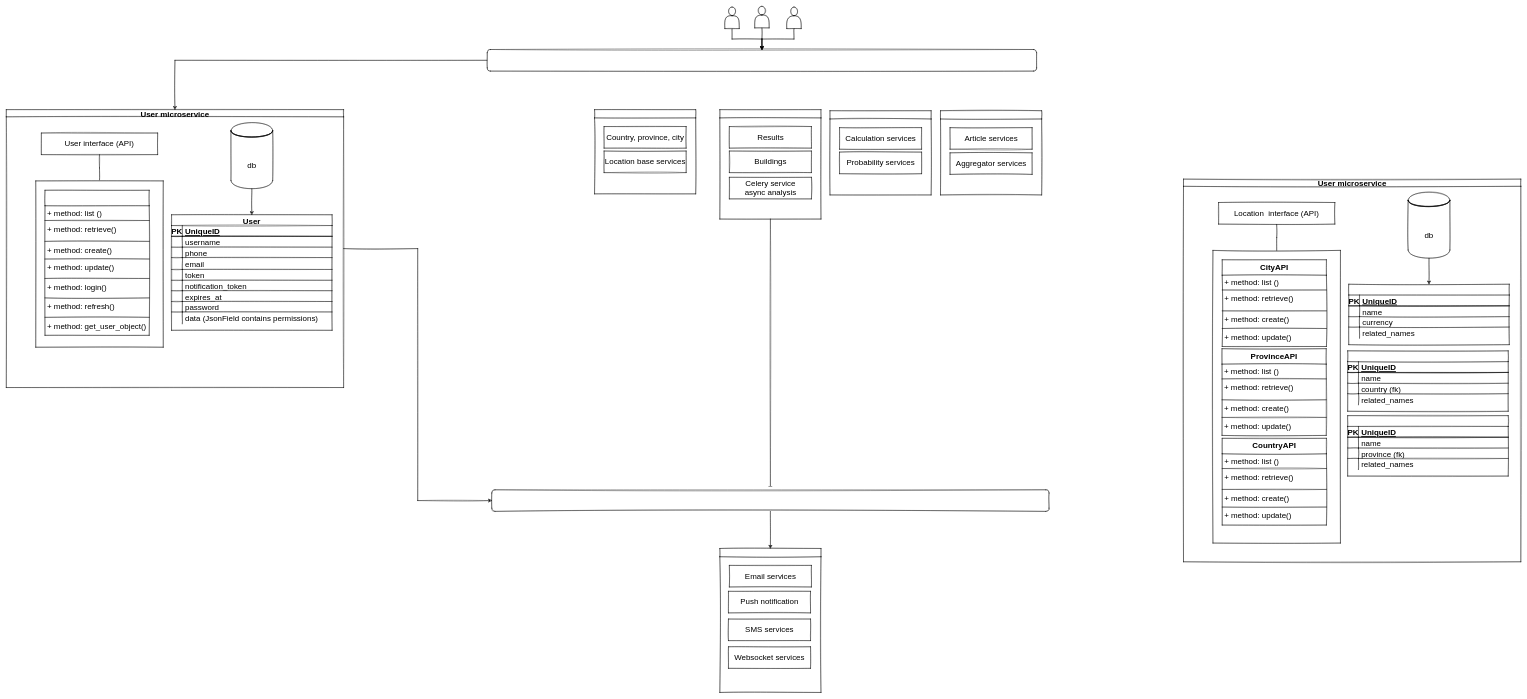
The diagram is 1527 pixels wide and 699 high, and some of its shapes have lost their labels. Each missing label, with the box of its shape:
Building microservice: (719, 109, 821, 219)
Calculator microservice: (830, 110, 931, 195)
City: (1347, 415, 1508, 476)
Country: (1348, 284, 1509, 345)
Event bus: (491, 489, 1049, 511)
Location microservice: (594, 109, 696, 194)
Notification microservice: (719, 548, 821, 692)
Province: (1347, 350, 1508, 411)
User interface: (487, 49, 1037, 71)
UserAPI: (45, 190, 149, 335)
Website microservice: (940, 110, 1042, 195)
